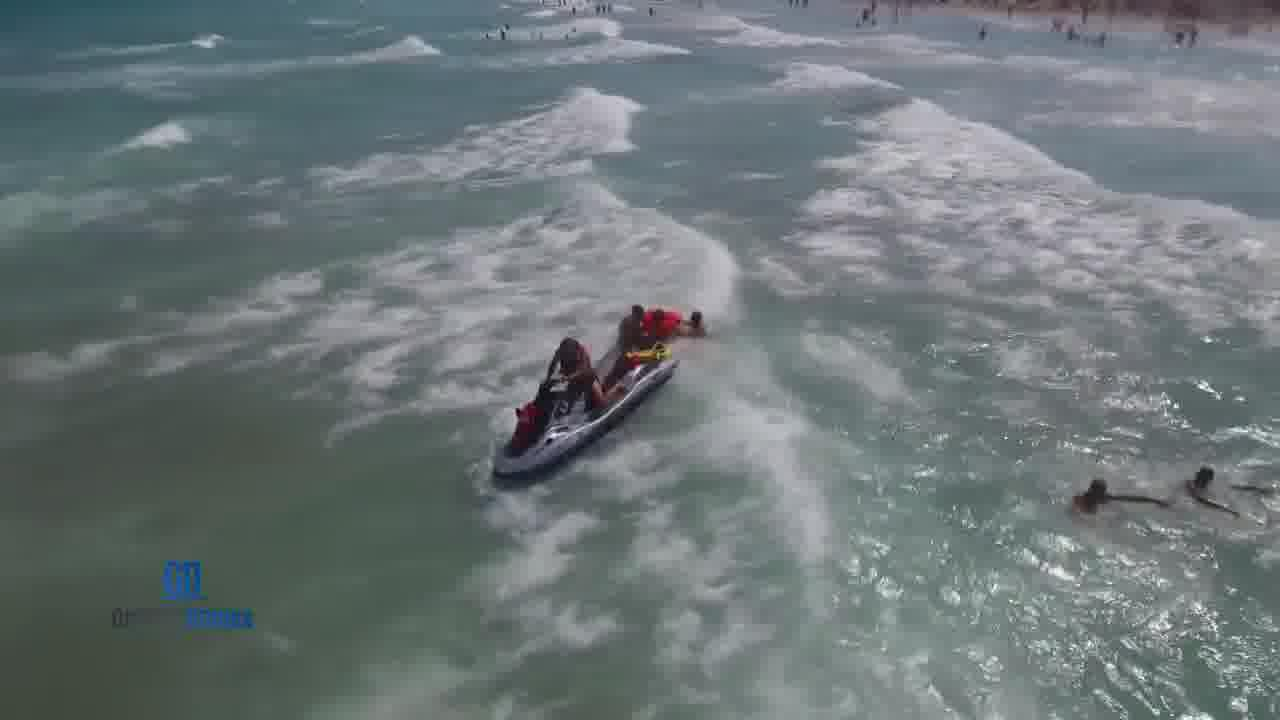human: (1176, 449, 1273, 526), (1059, 464, 1175, 523)
